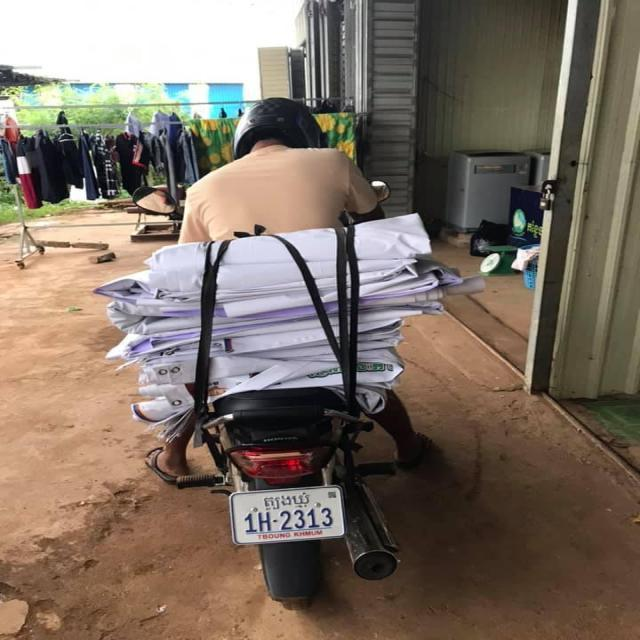Tboung_Khmum: (263, 491, 310, 509)
